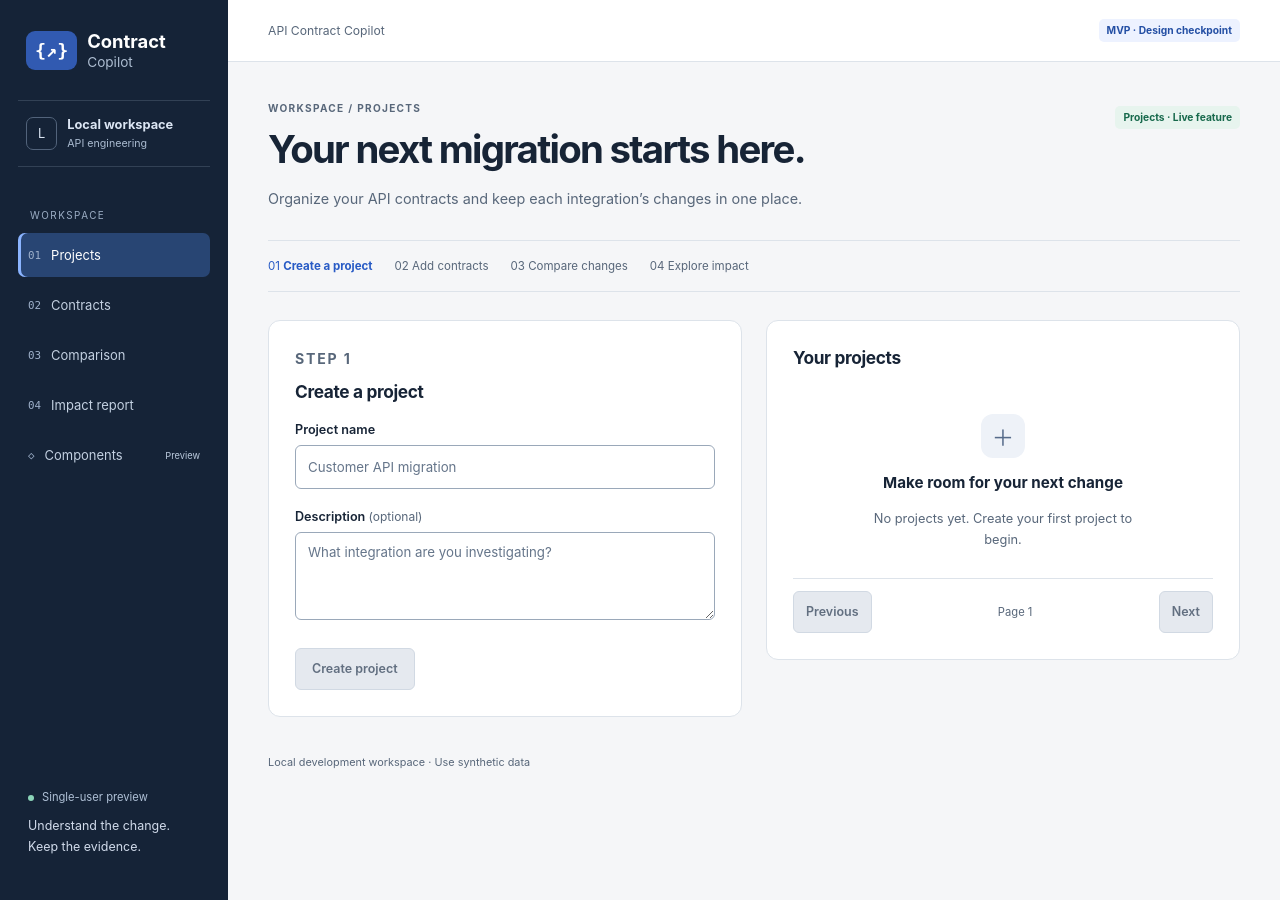
Test case: retains input and shows safe feedback for rejected creation (422)
Expected: the text "No projects yet. Create your first project to begin." is shown, [863,508,1143,550]
Step 1. Type "Retry me" into the field labelled "Project name" → (505,466), box [295,444,715,488]
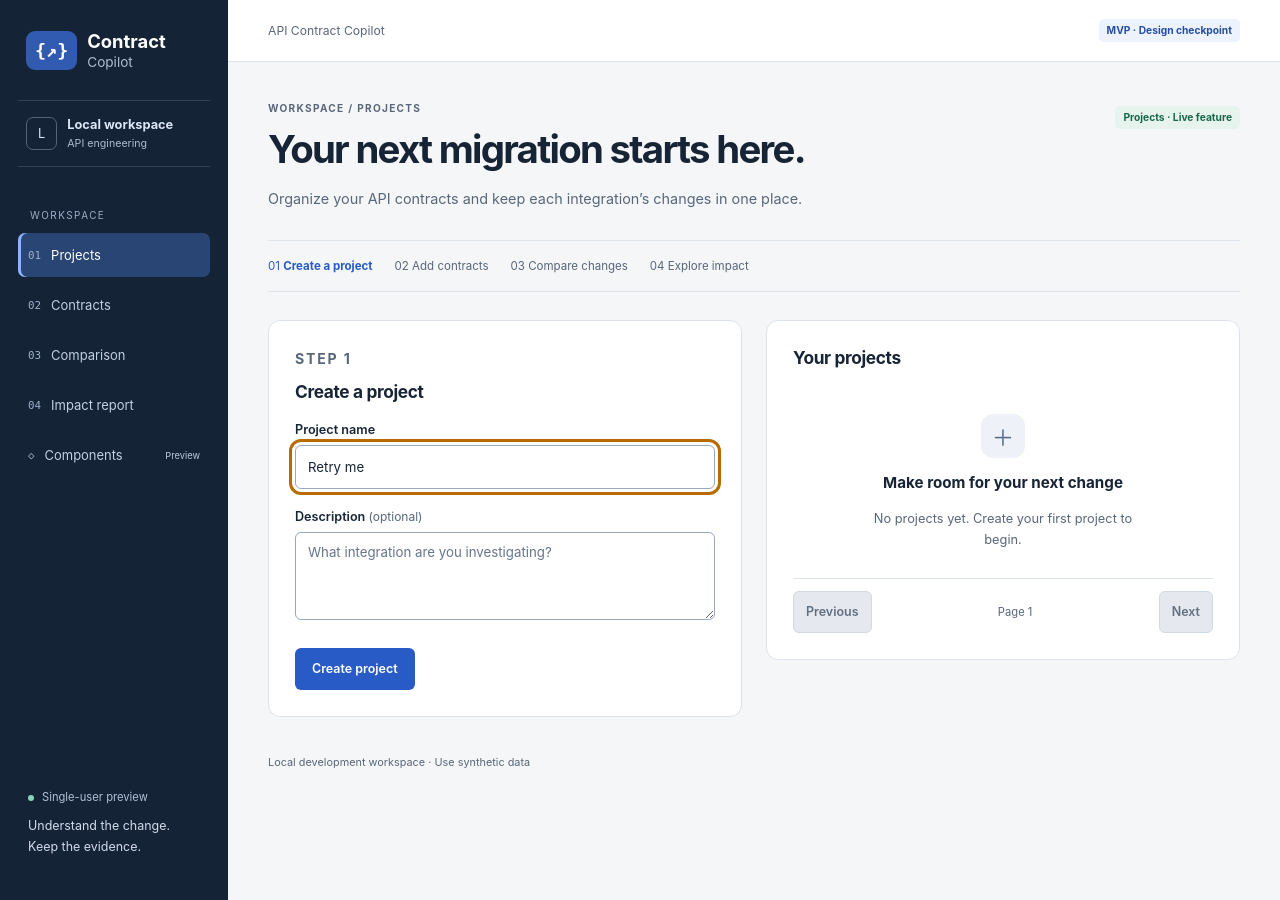
Step 2. Type "Keep this description" into the text box labelled "Description (optional)" → (505,576), box [295,532,715,620]
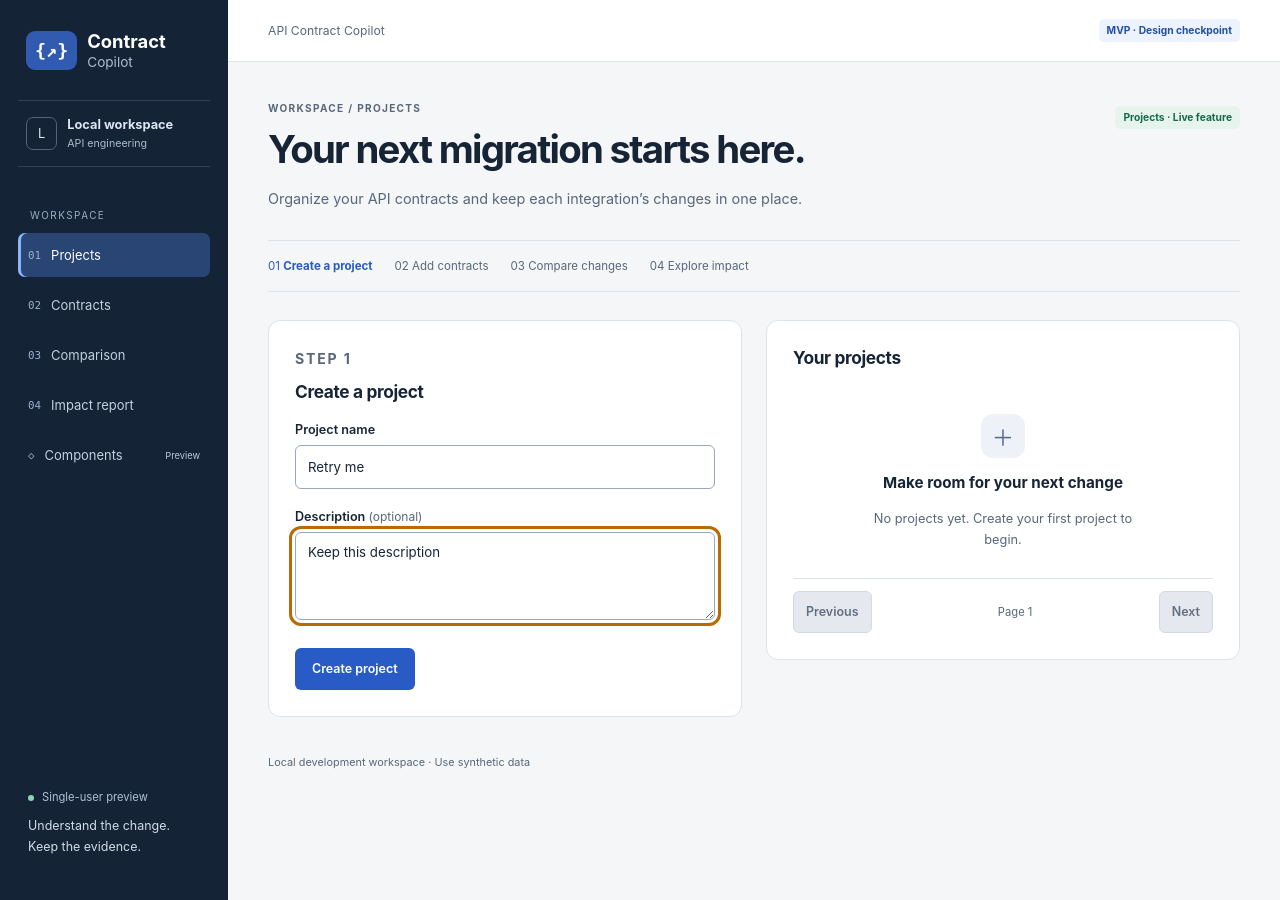
Step 3. Click the button "Create project" → (355,668), box [295,648,415,690]
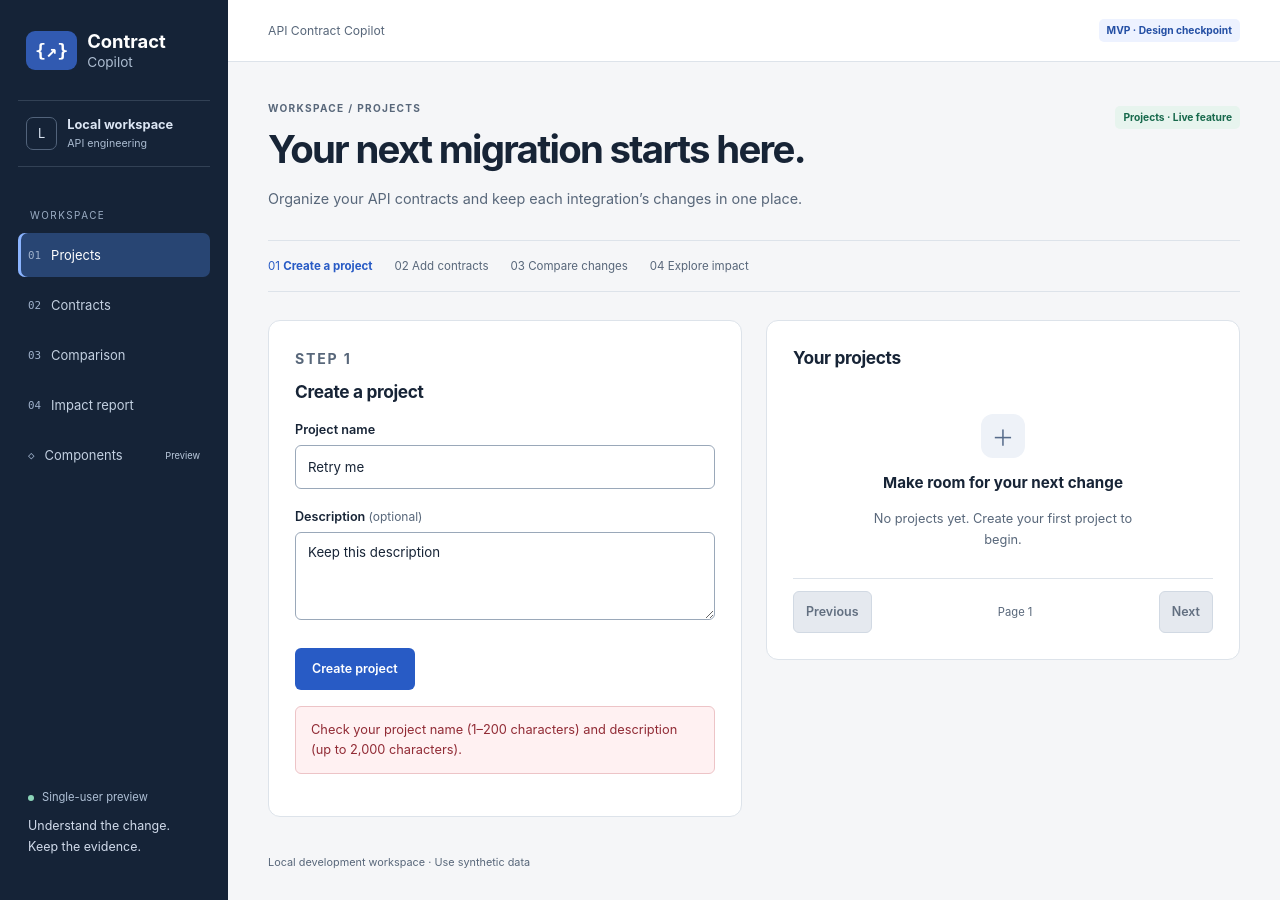
Now the message shows "Check your project name", box [311,722,677,757]
